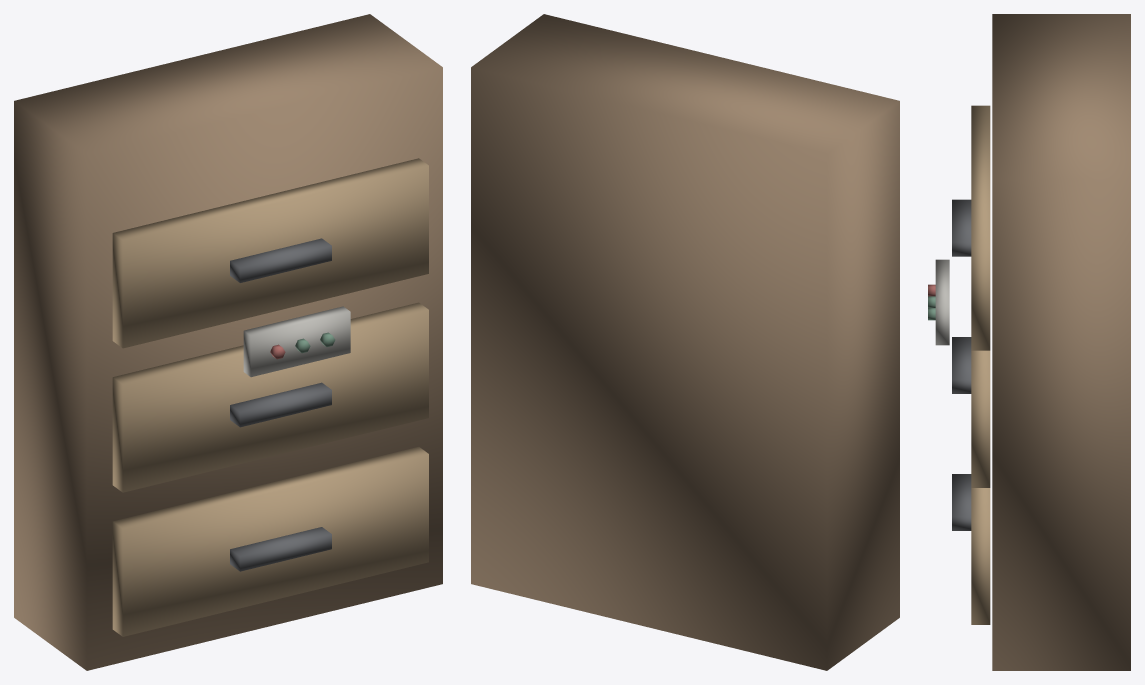
The model's file is medicine_cabinet__deep.glb.
3 renders of one model, left to right at view 1: azimuth 30°, elevation 25°; view 2: azimuth 150°, elevation 25°; view 3: azimuth 270°, elevation 25°, orthographic. The views are drawn at different scales.
Visible parts, largest first — view 1: world; view 2: world; view 3: world.
Part boxes in pixels (x1,y1,x2,y2): world: (14, 14, 442, 670); world: (471, 14, 899, 670); world: (928, 14, 1130, 670).
Bounding box in the file's own units: 0.62 × 0.86 × 0.3215.
